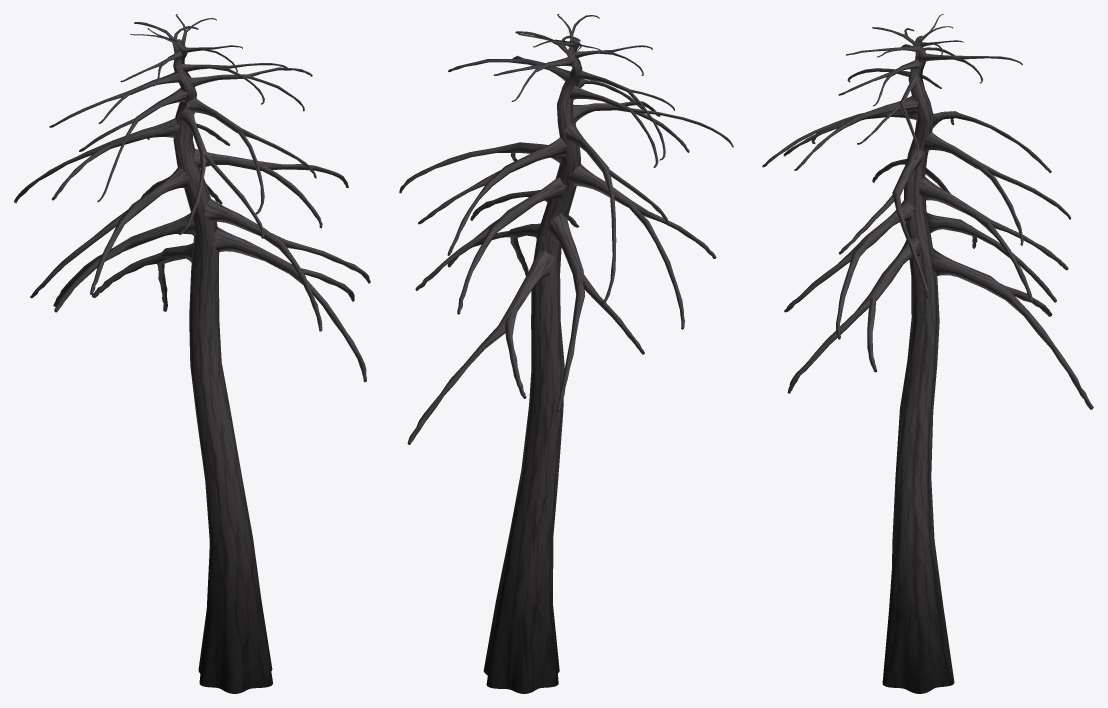
The model's file is quaternius-DeadTree_3.glb.
3 views of the same model, side by side, from view 1: azimuth 30°, elevation 25°; view 2: azimuth 150°, elevation 25°; view 3: azimuth 270°, elevation 25° (orthographic). The views are drawn at different scales.
Parts seen in each view (by area): view 1: DeadTree_3; view 2: DeadTree_3; view 3: DeadTree_3.
Part boxes in pixels (x1,y1,x2,y2): DeadTree_3: (14,14,370,693); DeadTree_3: (399,14,733,693); DeadTree_3: (762,14,1093,693).
Size of the model in its own units: 6.39 by 13.28 by 6.43.
Materials: 1 (1 with a texture image).
